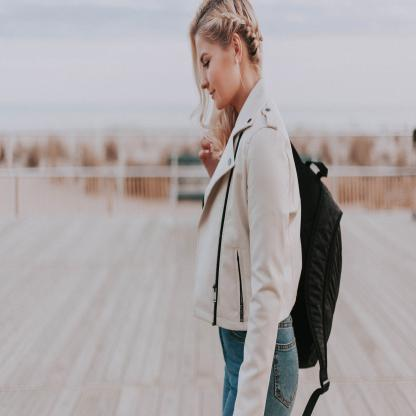Eye: (202, 54, 212, 70)
Mouth: (209, 88, 216, 100)
Nose: (199, 63, 209, 90)
